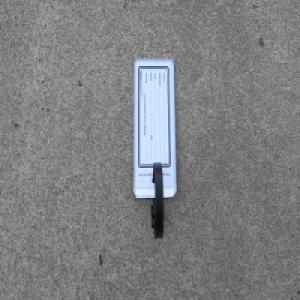LuggageTag: (130, 55, 178, 241)
